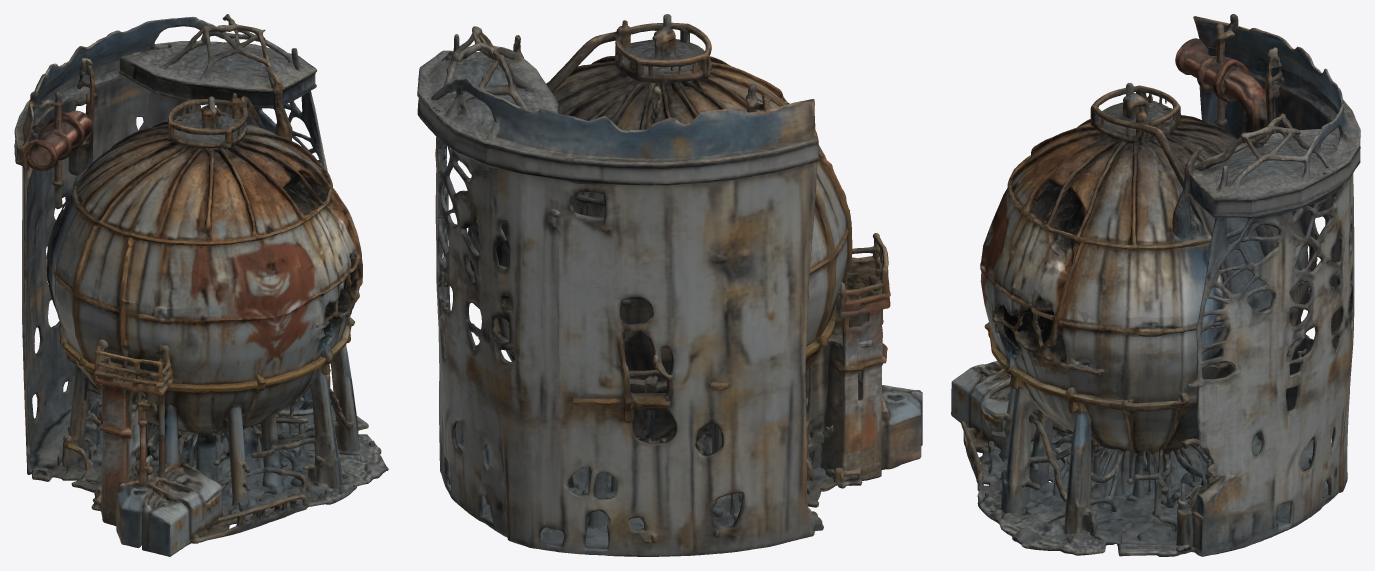
File: tank_ruin.glb
The picture shows the model from 3 angles, left to right: view 1: azimuth 30°, elevation 25°; view 2: azimuth 150°, elevation 25°; view 3: azimuth 270°, elevation 25°; orthographic projection. The views are drawn at different scales.
Visible parts, largest first — view 1: world; view 2: world; view 3: world.
Part boxes in pixels (x1,y1,x2,y2): world: [14, 14, 388, 556]; world: [417, 14, 922, 556]; world: [951, 14, 1360, 556].
Size of the model in its own units: 15 by 17.09 by 15.77.
Materials: 1 (1 with a texture image).
